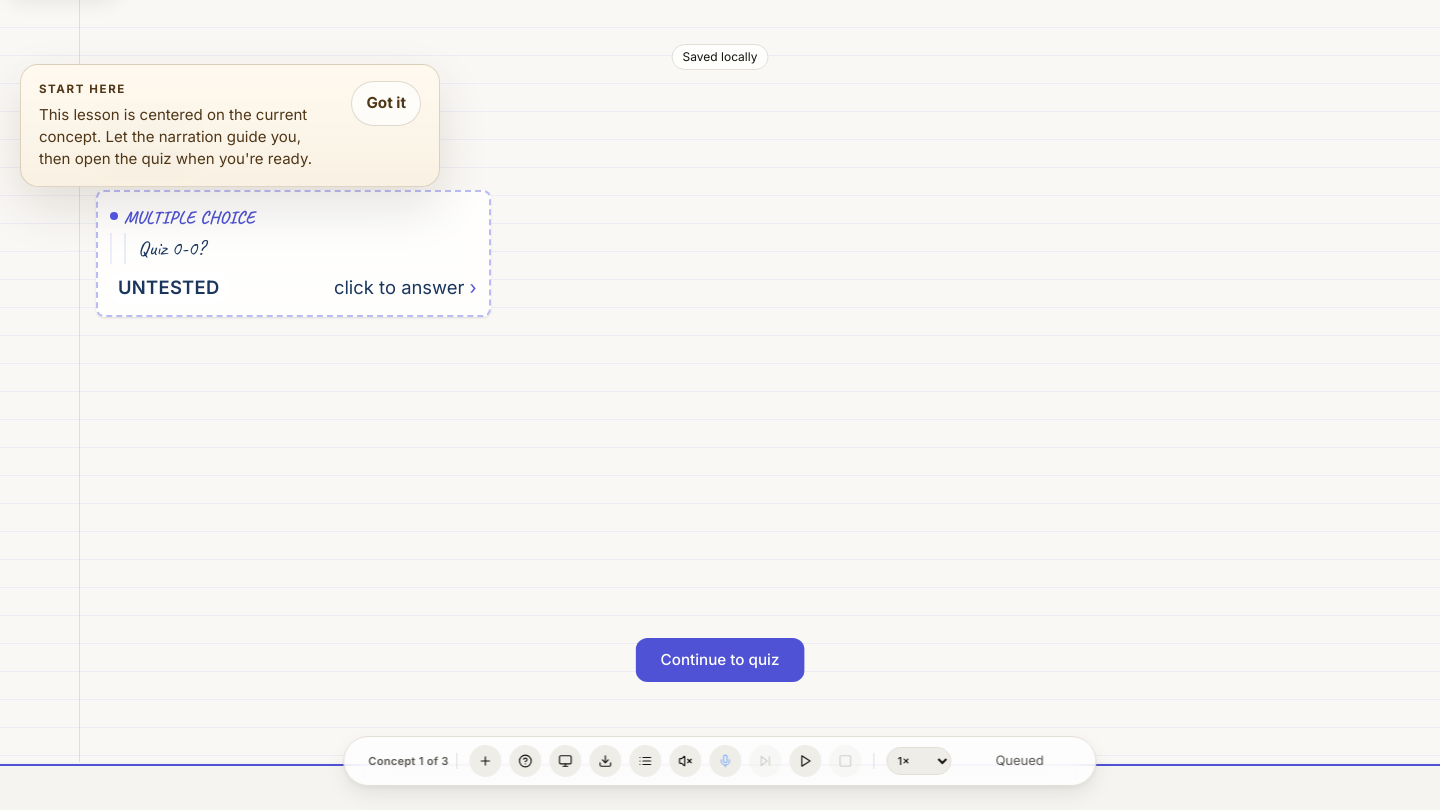
it: CanvasPage › learning cue › shows continue cue when lastConceptId is incomplete
Click the button "Got it".
click(386, 103)  # box [351, 81, 421, 126]
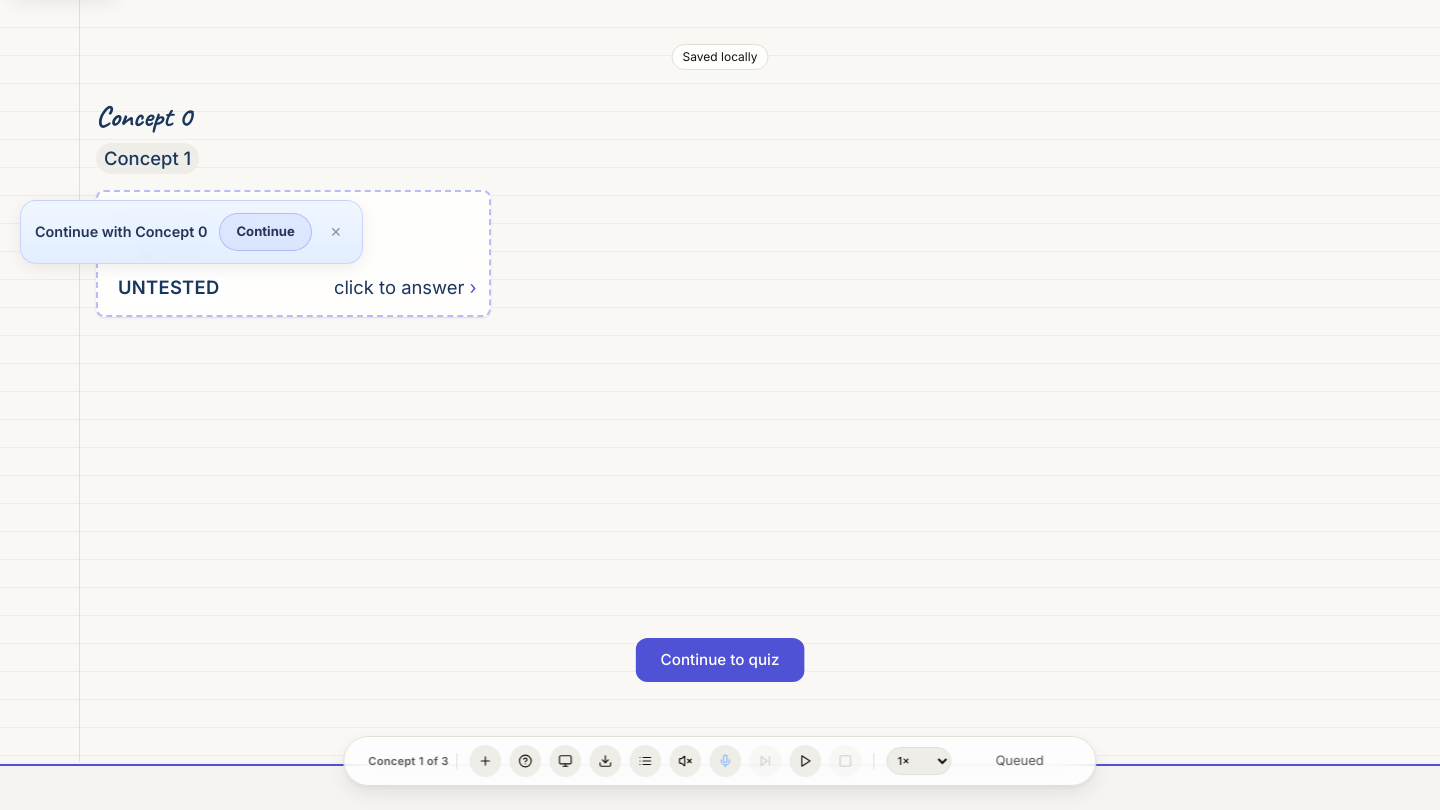
Now the text "Continue with Concept 0" is shown, box [35, 222, 207, 242]
Now the button "Continue" is shown, box [219, 213, 312, 251]
